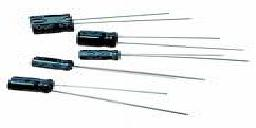Electrolytic-Capacitor: (5, 75, 197, 121), (29, 55, 211, 81), (73, 30, 232, 50), (23, 13, 201, 30), (80, 49, 254, 66)
